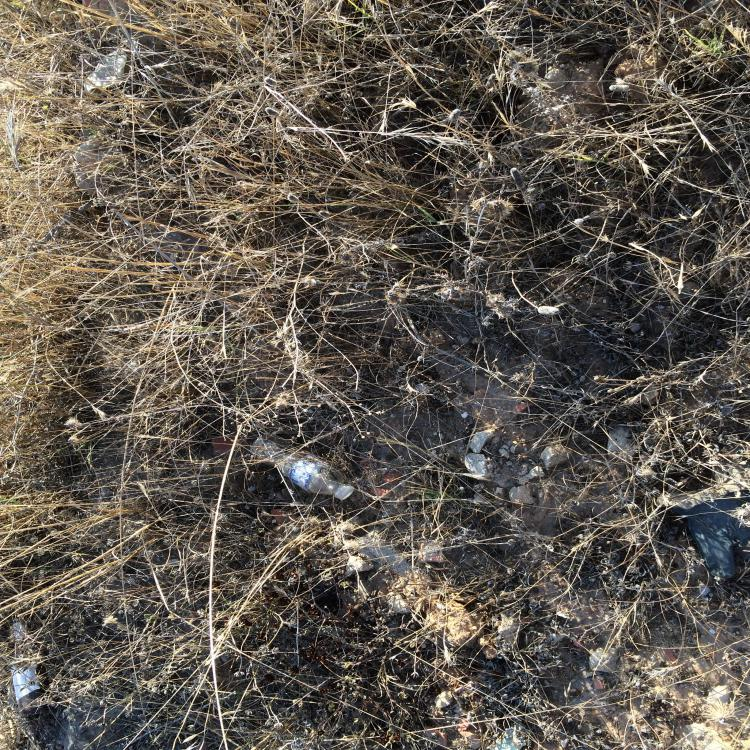Clear plastic bottle: (250, 438, 353, 500)
Glass bottle: (10, 618, 55, 715)
Plastic bottle cap: (336, 484, 354, 500)
Unlabeled litter: (84, 54, 127, 92)
